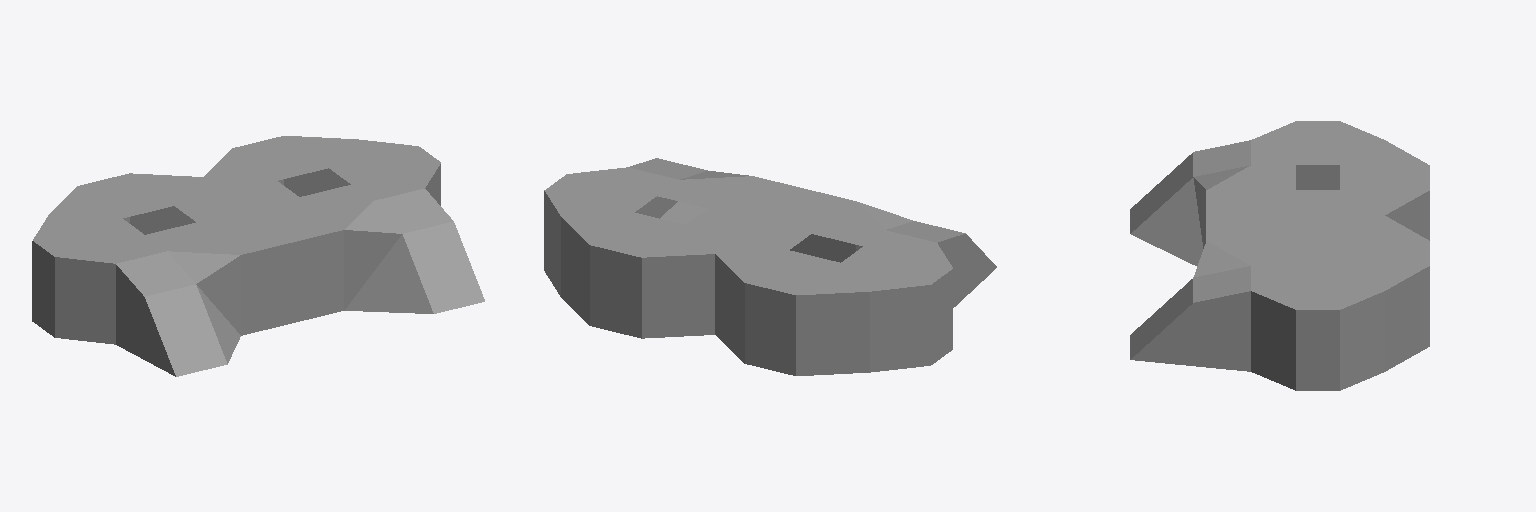
The model's file is invader.obj.
3 views of the same model, side by side, from view 1: azimuth 30°, elevation 25°; view 2: azimuth 150°, elevation 25°; view 3: azimuth 270°, elevation 25° (orthographic).
Parts seen in each view (by area): view 1: Cube; view 2: Cube; view 3: Cube.
Boxes of the visible parts, box(x1,y1,x2,y2) form: Cube: box(32, 136, 484, 376); Cube: box(544, 158, 996, 375); Cube: box(1130, 121, 1429, 390).
Bounding box in the file's own units: 10 × 2 × 6.71.